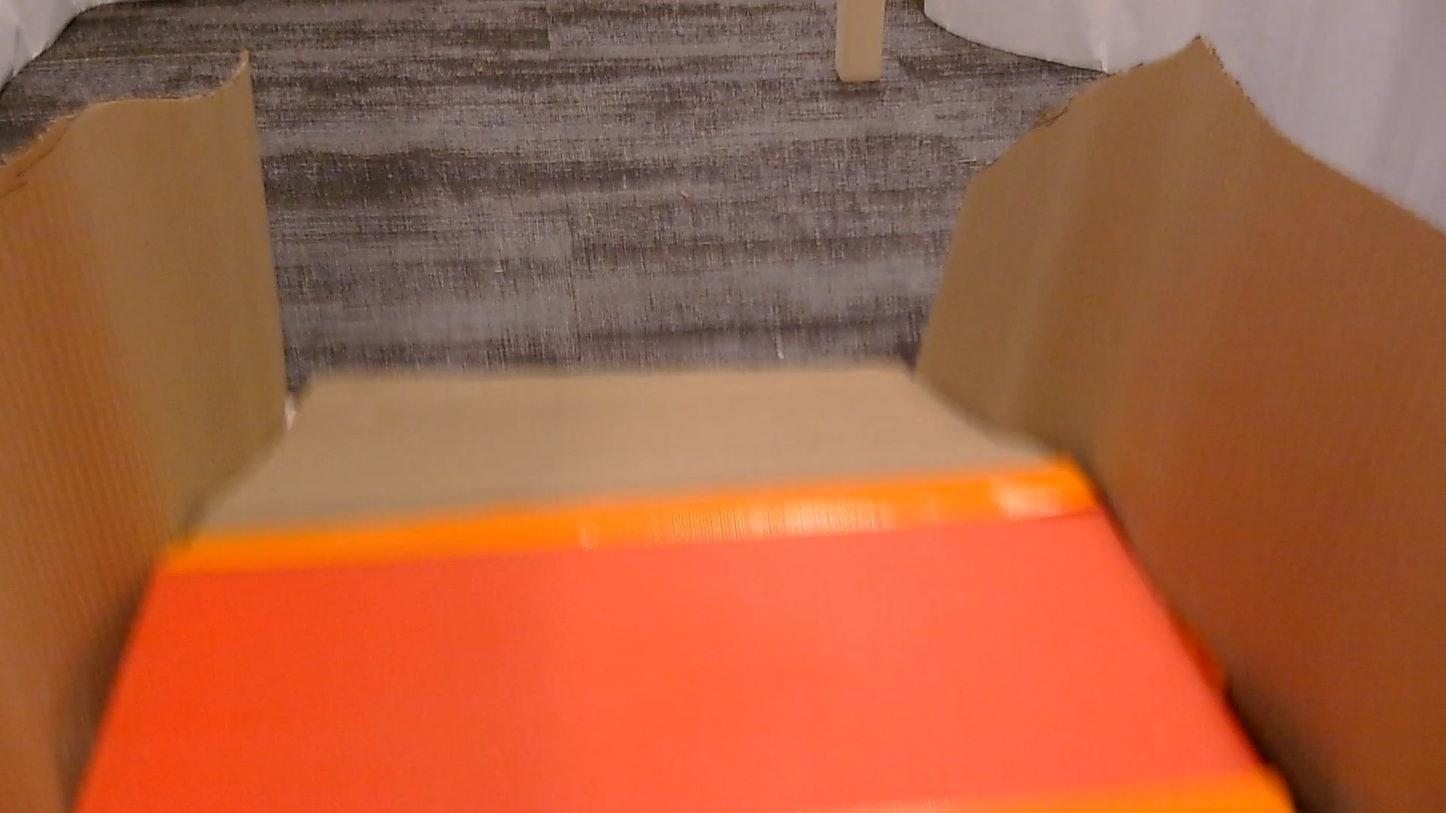Ramp: (0, 41, 1445, 812)
Wooden Block: (834, 0, 885, 83)
